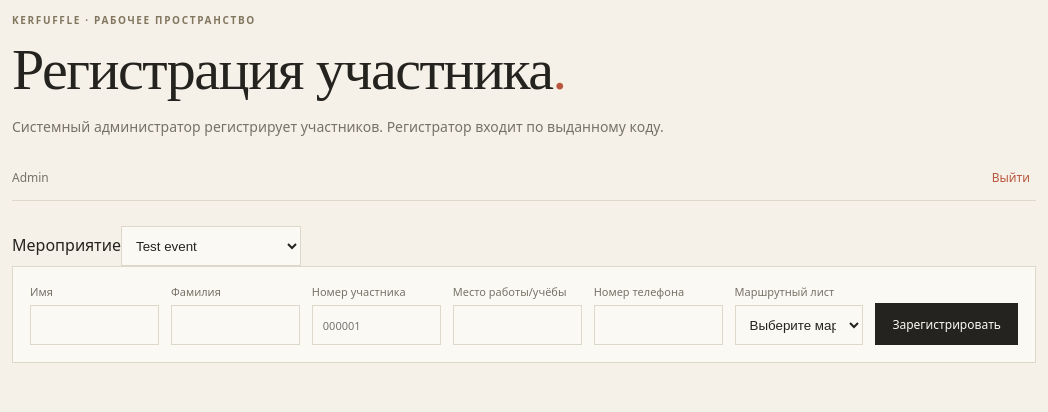
Test case: registers a participant with a manual six-digit number and personal fields
Type "Alex" into the field labelled "Имя". click: (94, 325)
box: [30, 305, 159, 345]
Type "Example" into the field labelled "Фамилия". click: (235, 325)
box: [171, 305, 300, 345]
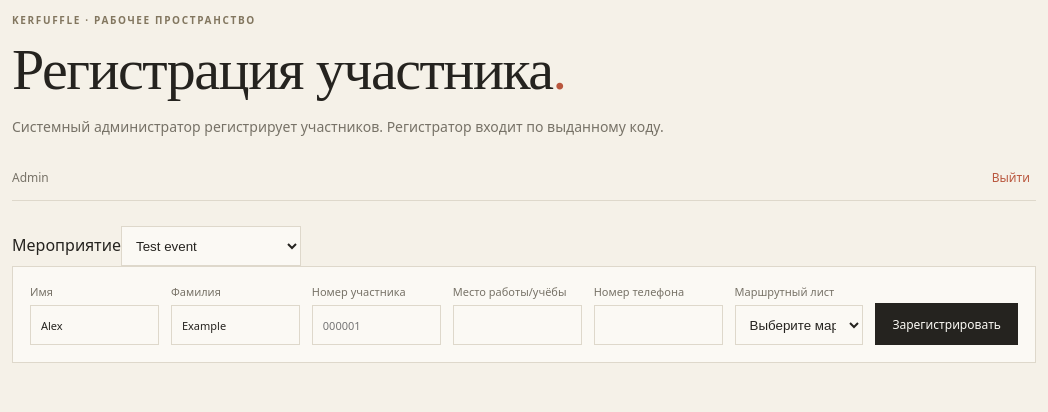
Type "482019" into the field labelled "Номер участника". click: (376, 325)
box: [312, 305, 441, 345]
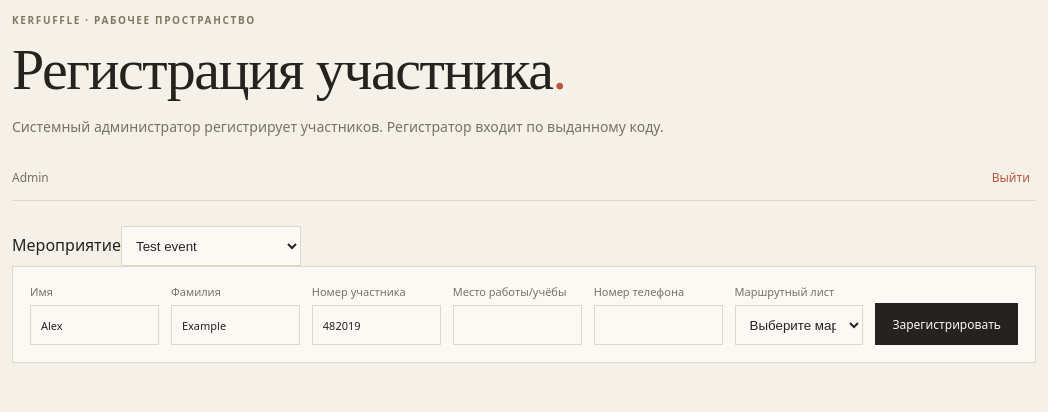
Type "Example school" into the field labelled "Место работы/учёбы". click: (517, 325)
box: [453, 305, 582, 345]
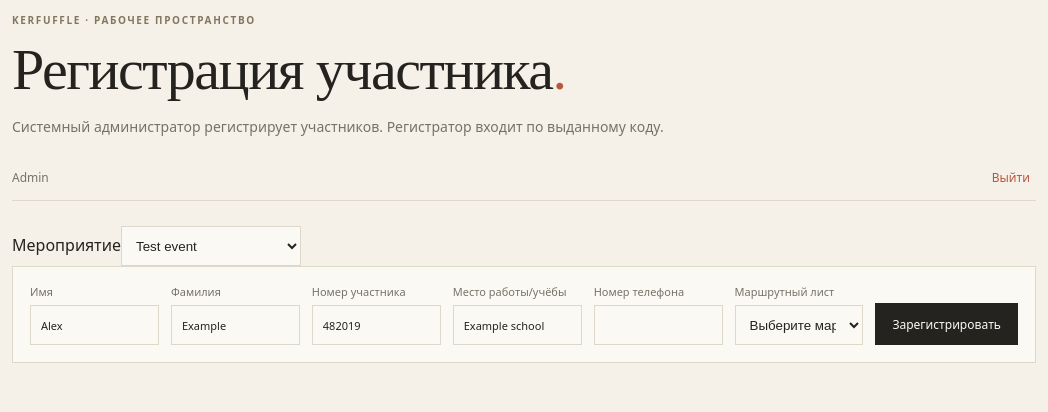
Type "+70000000000" into the field labelled "Номер телефона". click: (658, 325)
box: [594, 305, 722, 345]
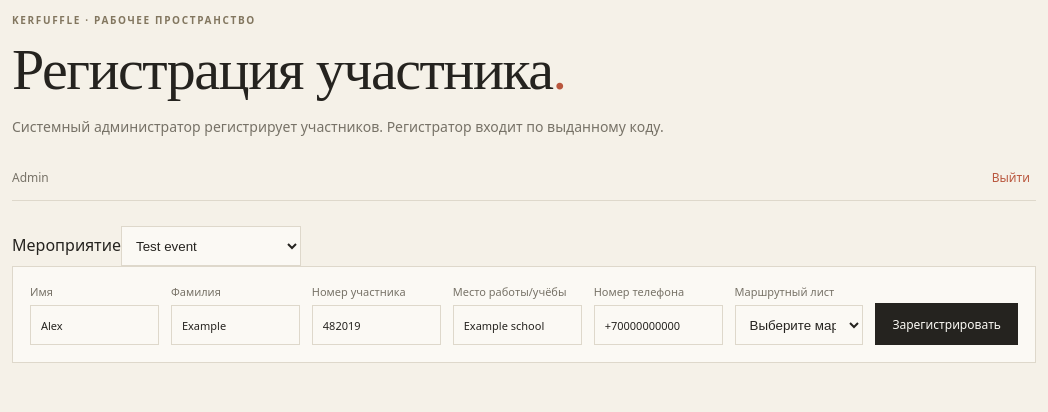
Select "North route · Main stage (0/2)" in the dropdown labelled "Маршрутный лист". click: (799, 325)
box: [734, 305, 863, 345]
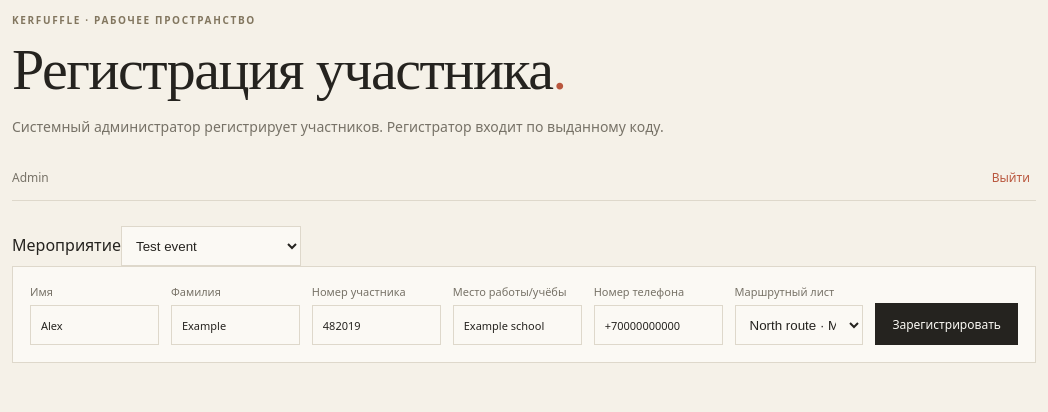
Submit the form named "Зарегистрировать", box [12, 266, 1036, 363]
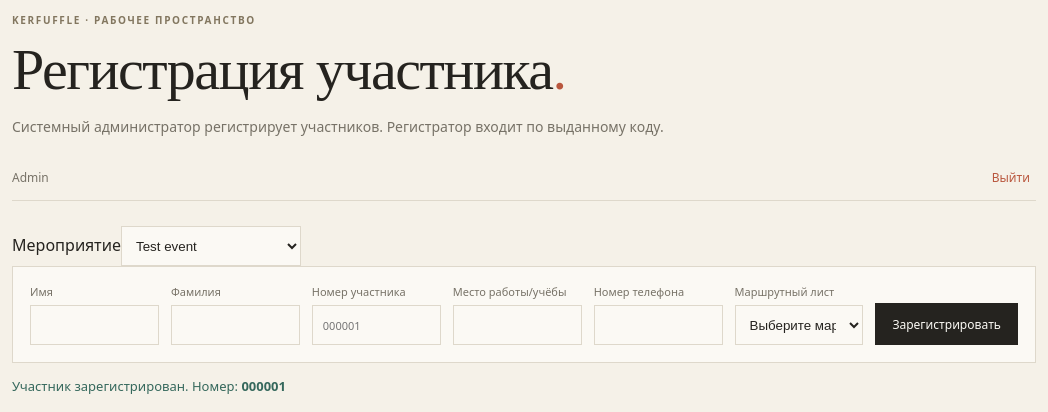
expect the message shows "000001": met, box [241, 377, 286, 395]
